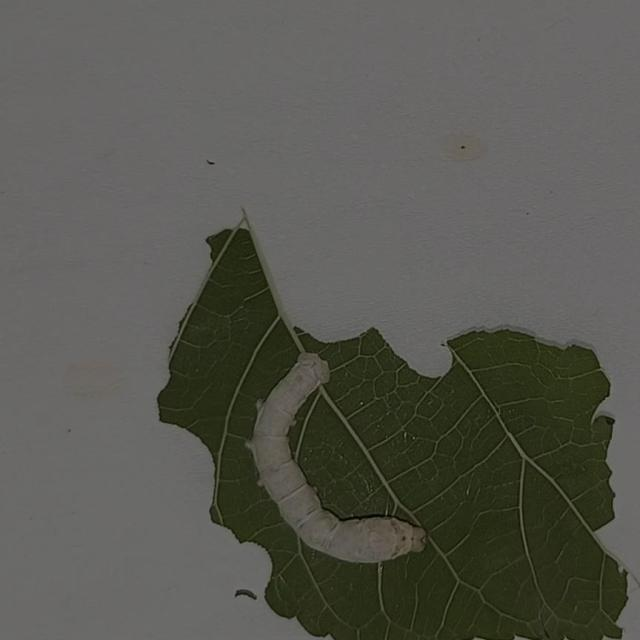Healthy: (225, 302, 468, 591)
